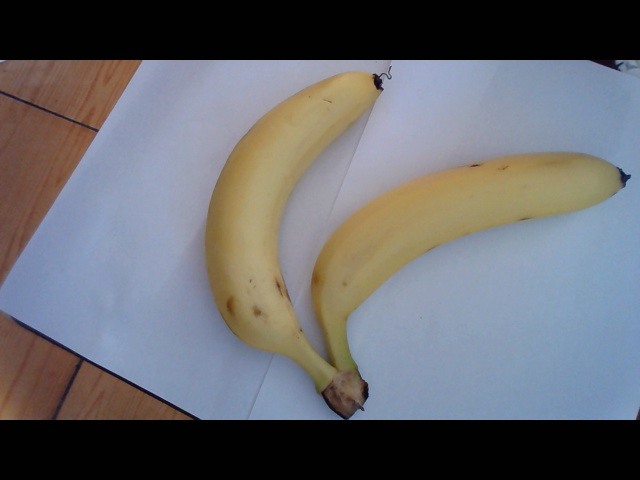banana: (317, 146, 620, 382), (193, 43, 337, 408)
